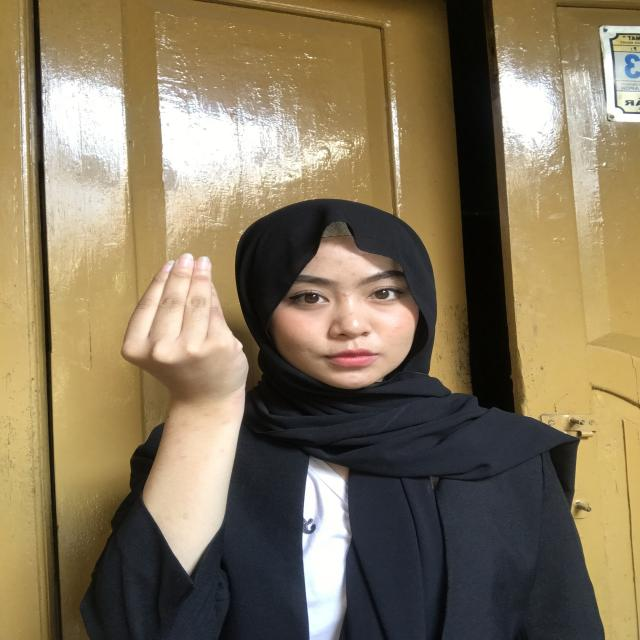kapan: (94, 249, 270, 466)
